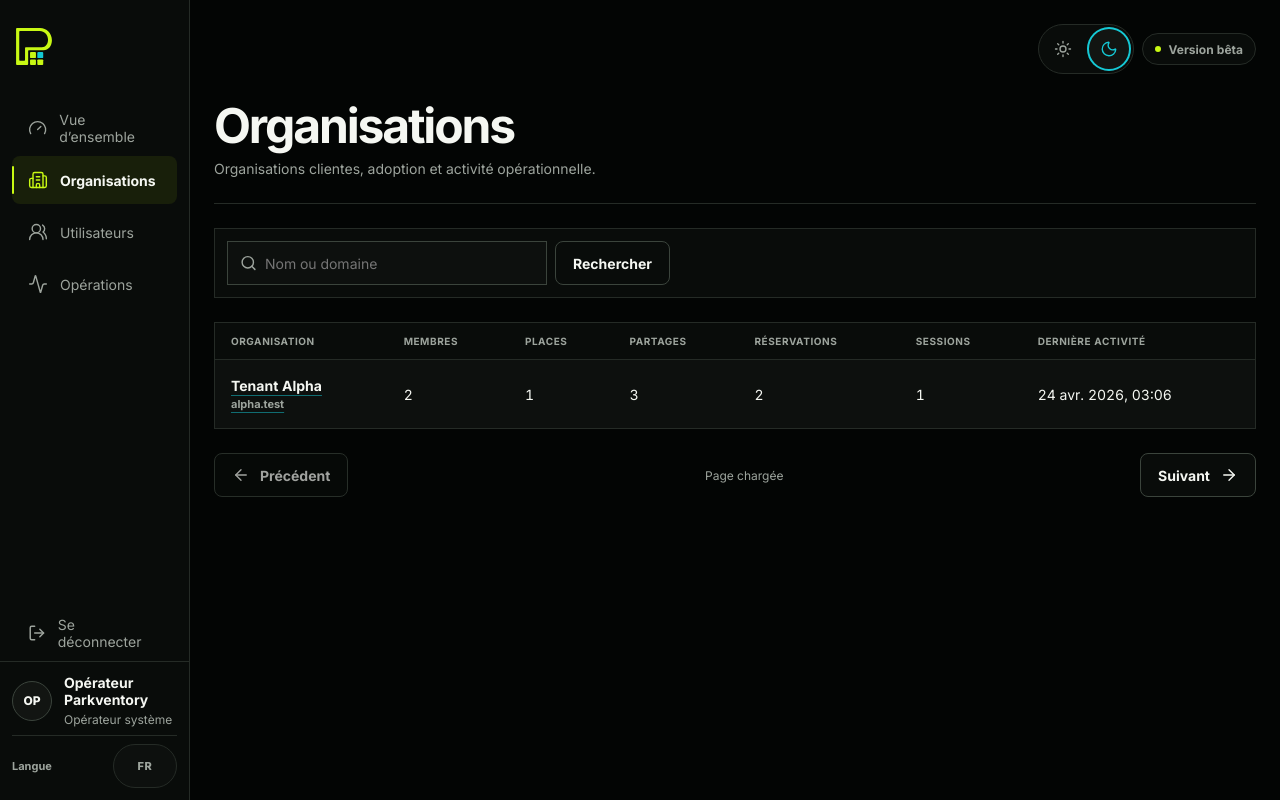
it: Parkventory › recherche et pagine les tenants avec les curseurs opaques du serveur
Expected: the text "Tenant Alpha" is shown, x1=231 y1=377 x2=322 y2=394
Click the button "Suivant": (1198, 475) x1=1140 y1=453 x2=1256 y2=497
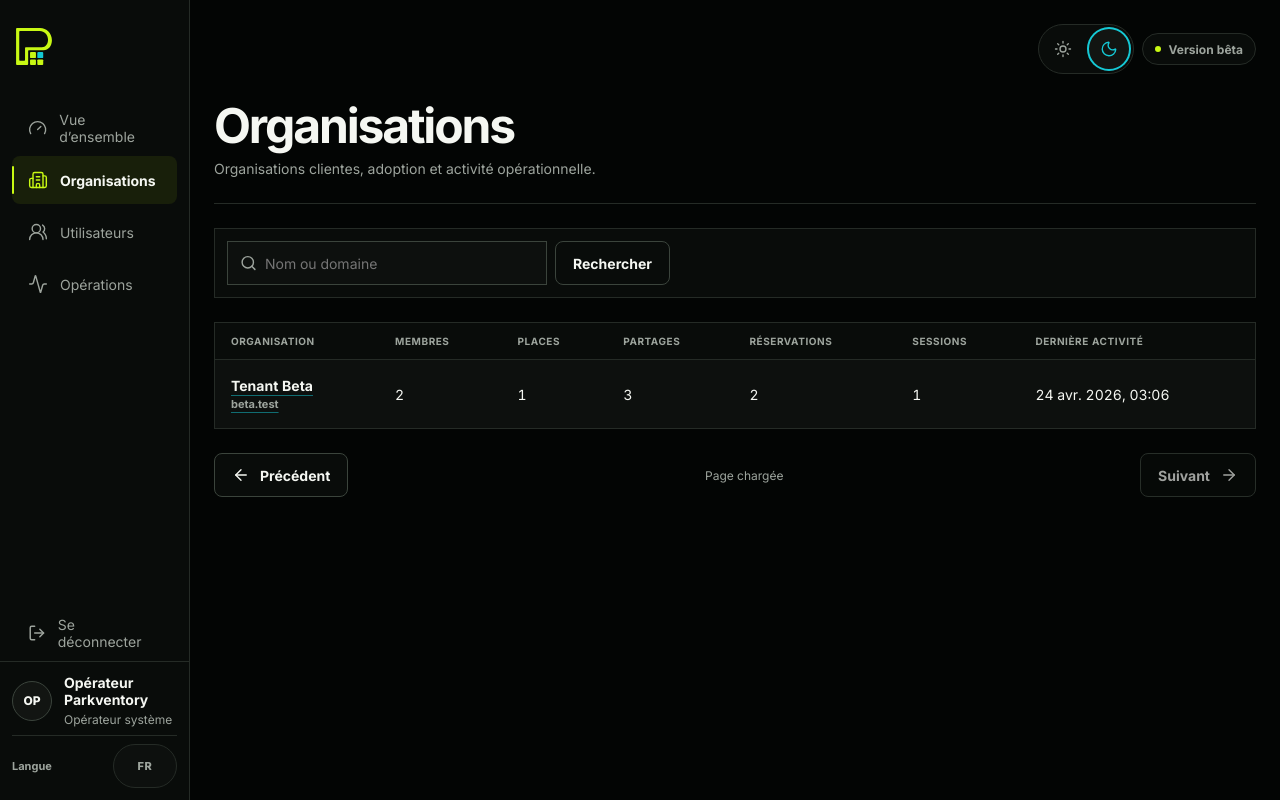
Expected: the text "Tenant Beta" is shown, x1=231 y1=377 x2=313 y2=394
In the search field named "Rechercher une organisation": (400, 263) x1=265 y1=243 x2=534 y2=283, type "Acme"
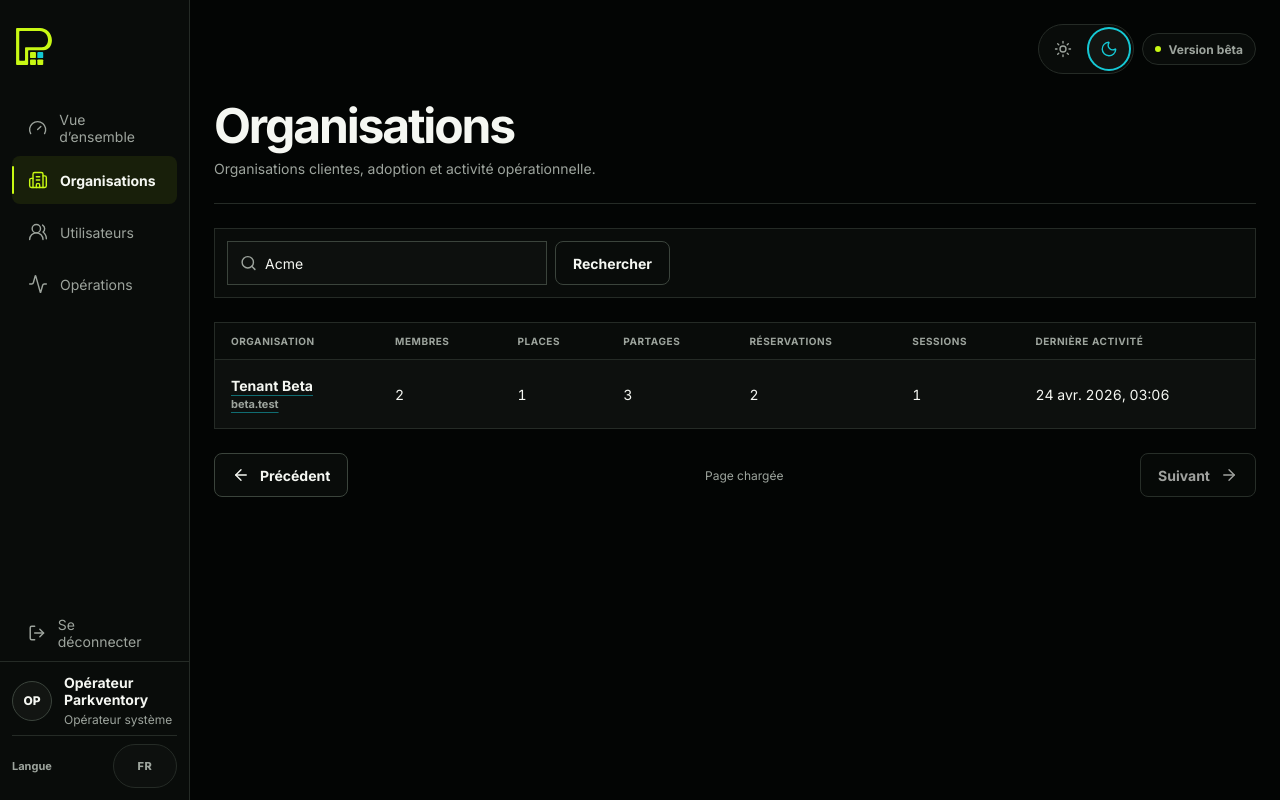
Click the button "Rechercher": (612, 263) x1=555 y1=241 x2=670 y2=285
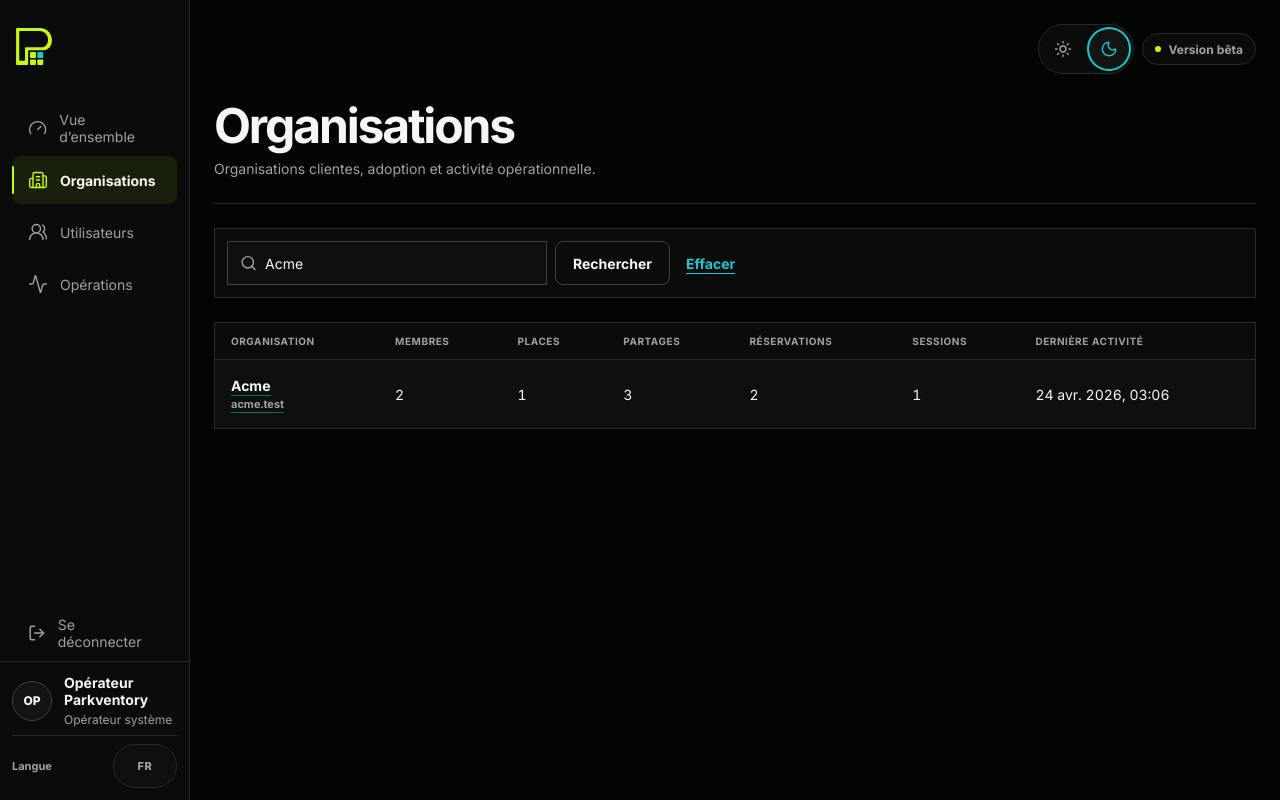
Expected: the text "Acme" is shown, x1=231 y1=377 x2=270 y2=394
